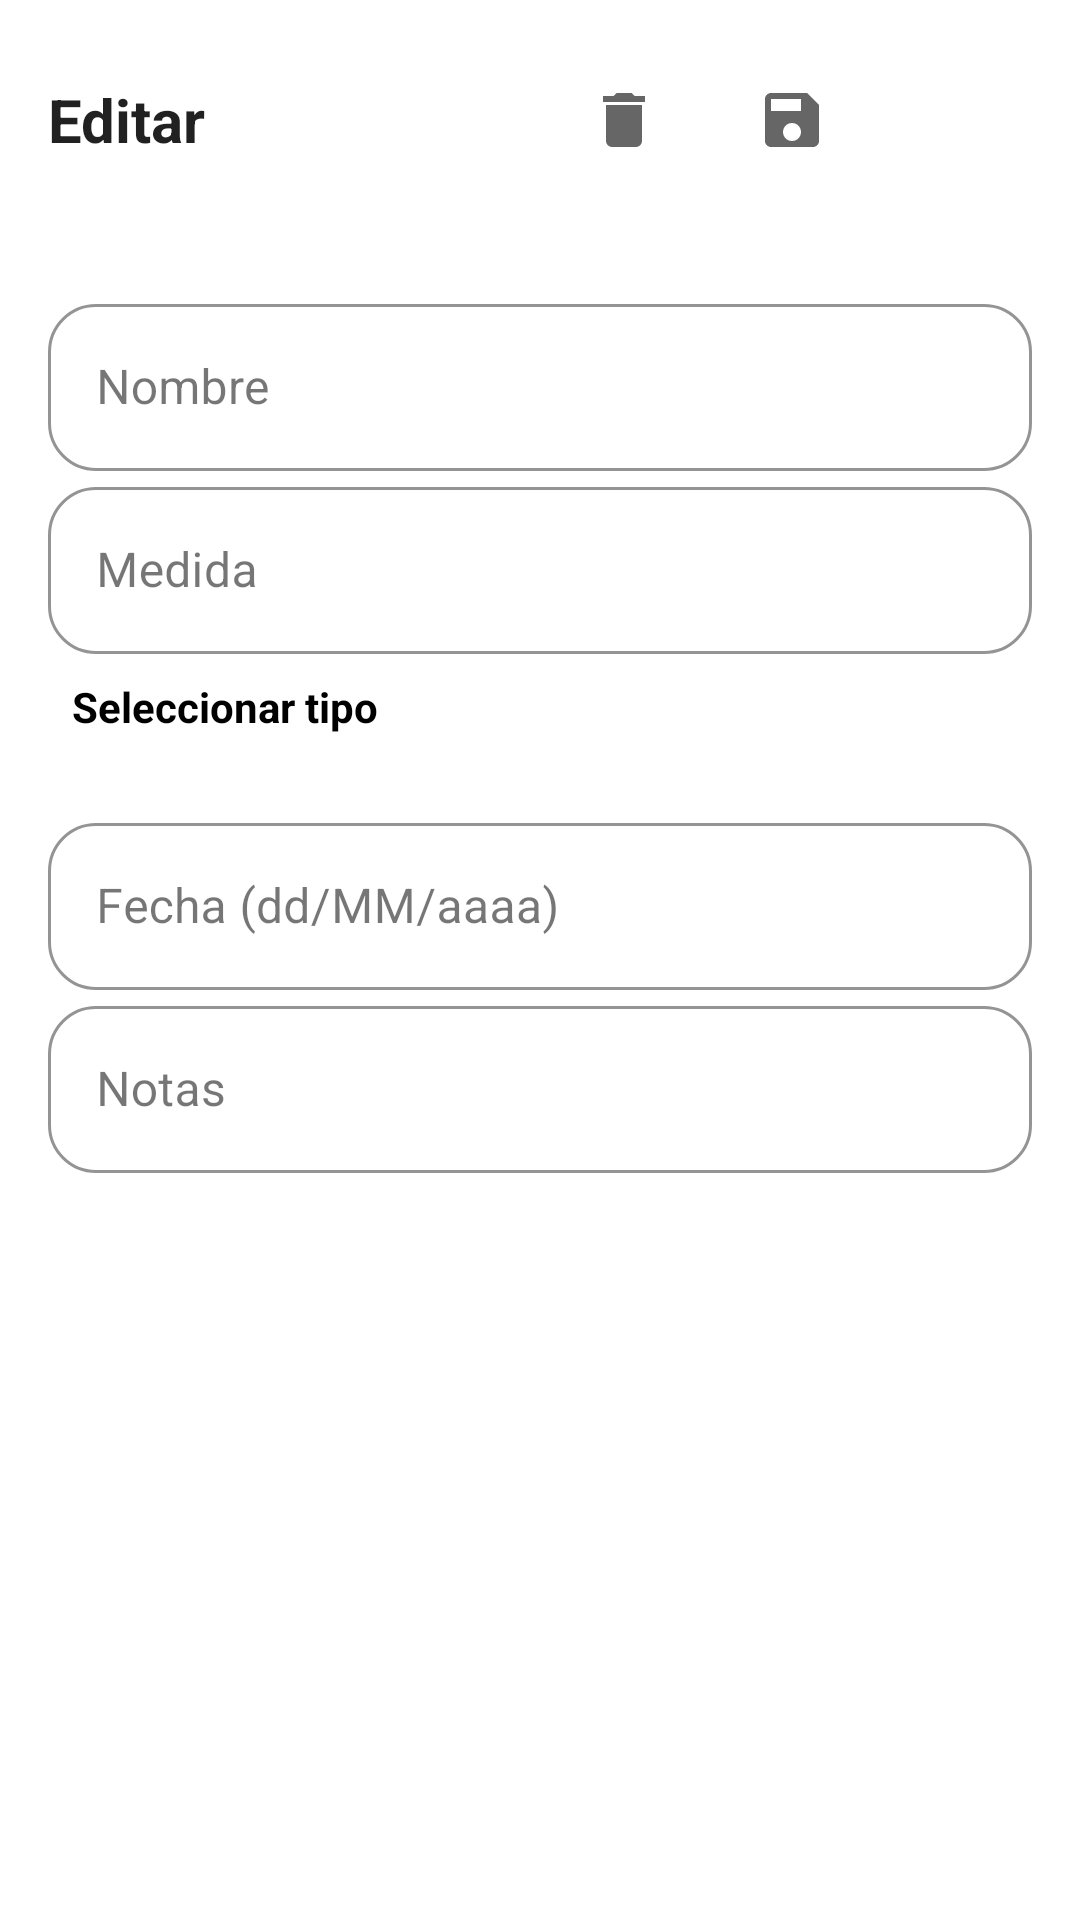

Locate icon controls on the screen. Image size 1080×1920, boxes as (x1, y1, x2, y2).
Eliminar: (603, 93, 645, 147)
Guardar: (765, 93, 819, 147)
